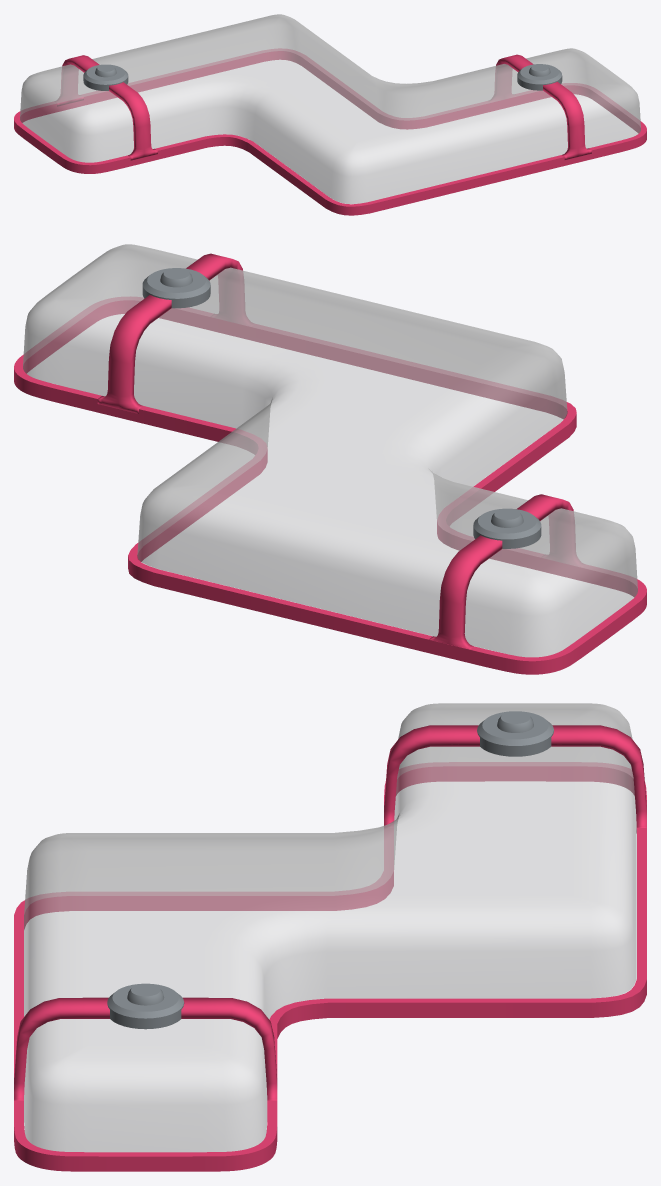
File: hop_L_S_T2.fbx
3 renders of one model, top to bottom at view 1: azimuth 30°, elevation 25°; view 2: azimuth 150°, elevation 25°; view 3: azimuth 270°, elevation 25°, orthographic. The views are drawn at different scales.
Parts seen in each view (by area): view 1: Cube.076, Cube.077, Cylinder.032, Cylinder.033; view 2: Cube.076, Cube.077, Cylinder.032, Cylinder.033; view 3: Cube.076, Cube.077, Cylinder.032, Cylinder.033.
Boxes of the visible parts, x1,y1,x2,y2 form: Cube.076: (20, 14, 640, 203); Cube.077: (14, 49, 646, 215); Cylinder.032: (83, 64, 128, 90); Cylinder.033: (517, 64, 562, 90); Cube.076: (23, 244, 637, 657); Cube.077: (14, 253, 646, 674); Cylinder.032: (473, 508, 541, 548); Cylinder.033: (142, 268, 210, 308); Cube.076: (24, 703, 636, 1152); Cube.077: (14, 725, 646, 1171); Cylinder.032: (477, 711, 553, 756); Cylinder.033: (107, 983, 184, 1029).
Size of the model in its own units: 555 by 75 by 377.
